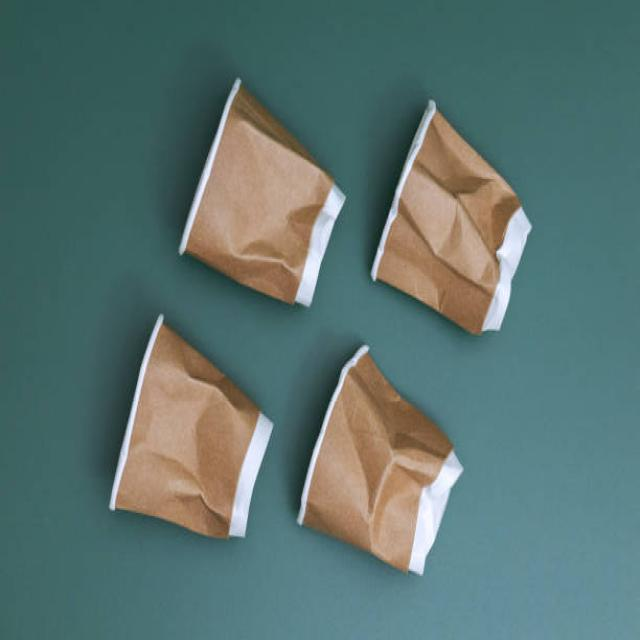electronic: (177, 75, 346, 308), (296, 344, 463, 576), (369, 99, 532, 336), (108, 312, 273, 540)
